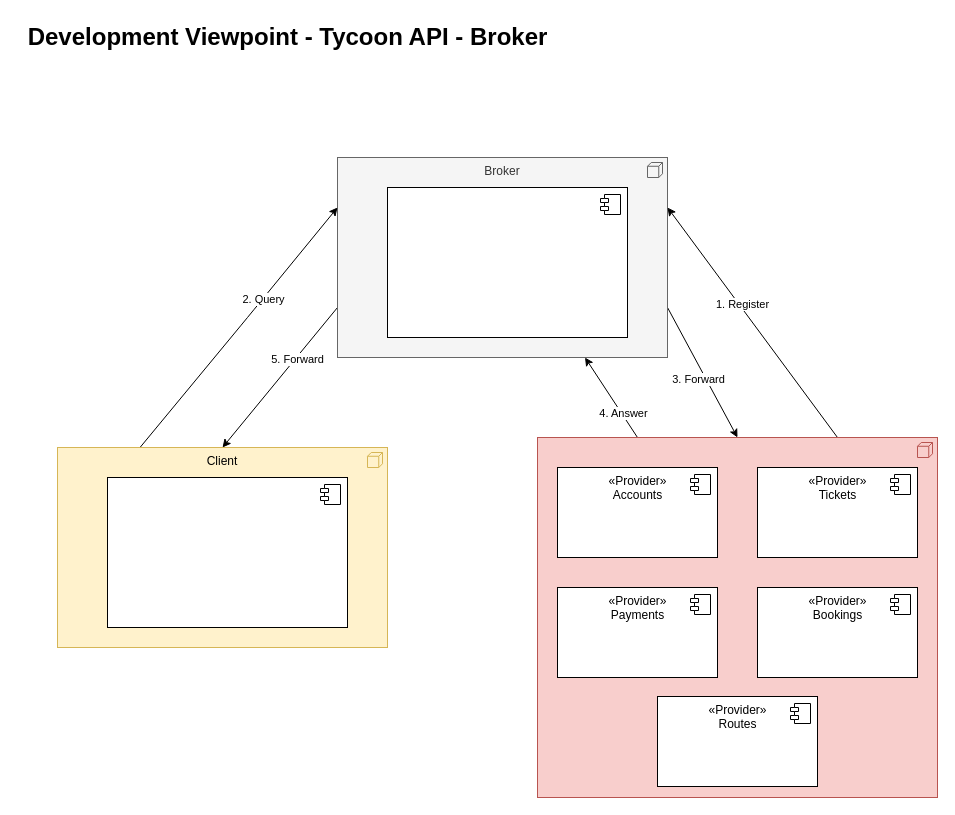
Image size: 955x815. Some labels were removed from this diagram. Each missing label, with the box of its shape:
Providers: (536, 436, 938, 798)
« Broker » Tycoon API: (386, 186, 628, 338)
« Client » Tycoon: (106, 476, 348, 628)
